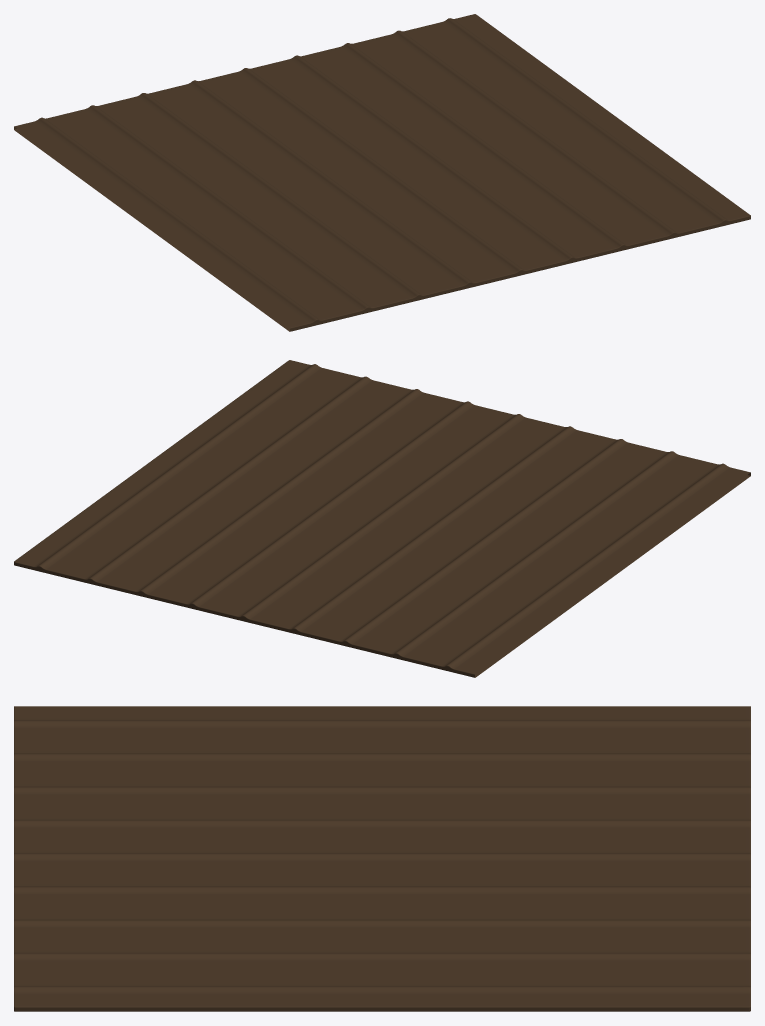
Rendered from dirtOne.glb.
3 renders of one model, top to bottom at view 1: azimuth 30°, elevation 25°; view 2: azimuth 150°, elevation 25°; view 3: azimuth 270°, elevation 25°, orthographic. The views are drawn at different scales.
Visible parts, largest first — view 1: dirt_onr; view 2: dirt_onr; view 3: dirt_onr.
Part boxes in pixels (x1,y1,x2,y2): dirt_onr: (14,14,750,331); dirt_onr: (14,360,750,677); dirt_onr: (14,706,750,1011).
Bounding box in the file's own units: 25.11 × 0.3075 × 26.
